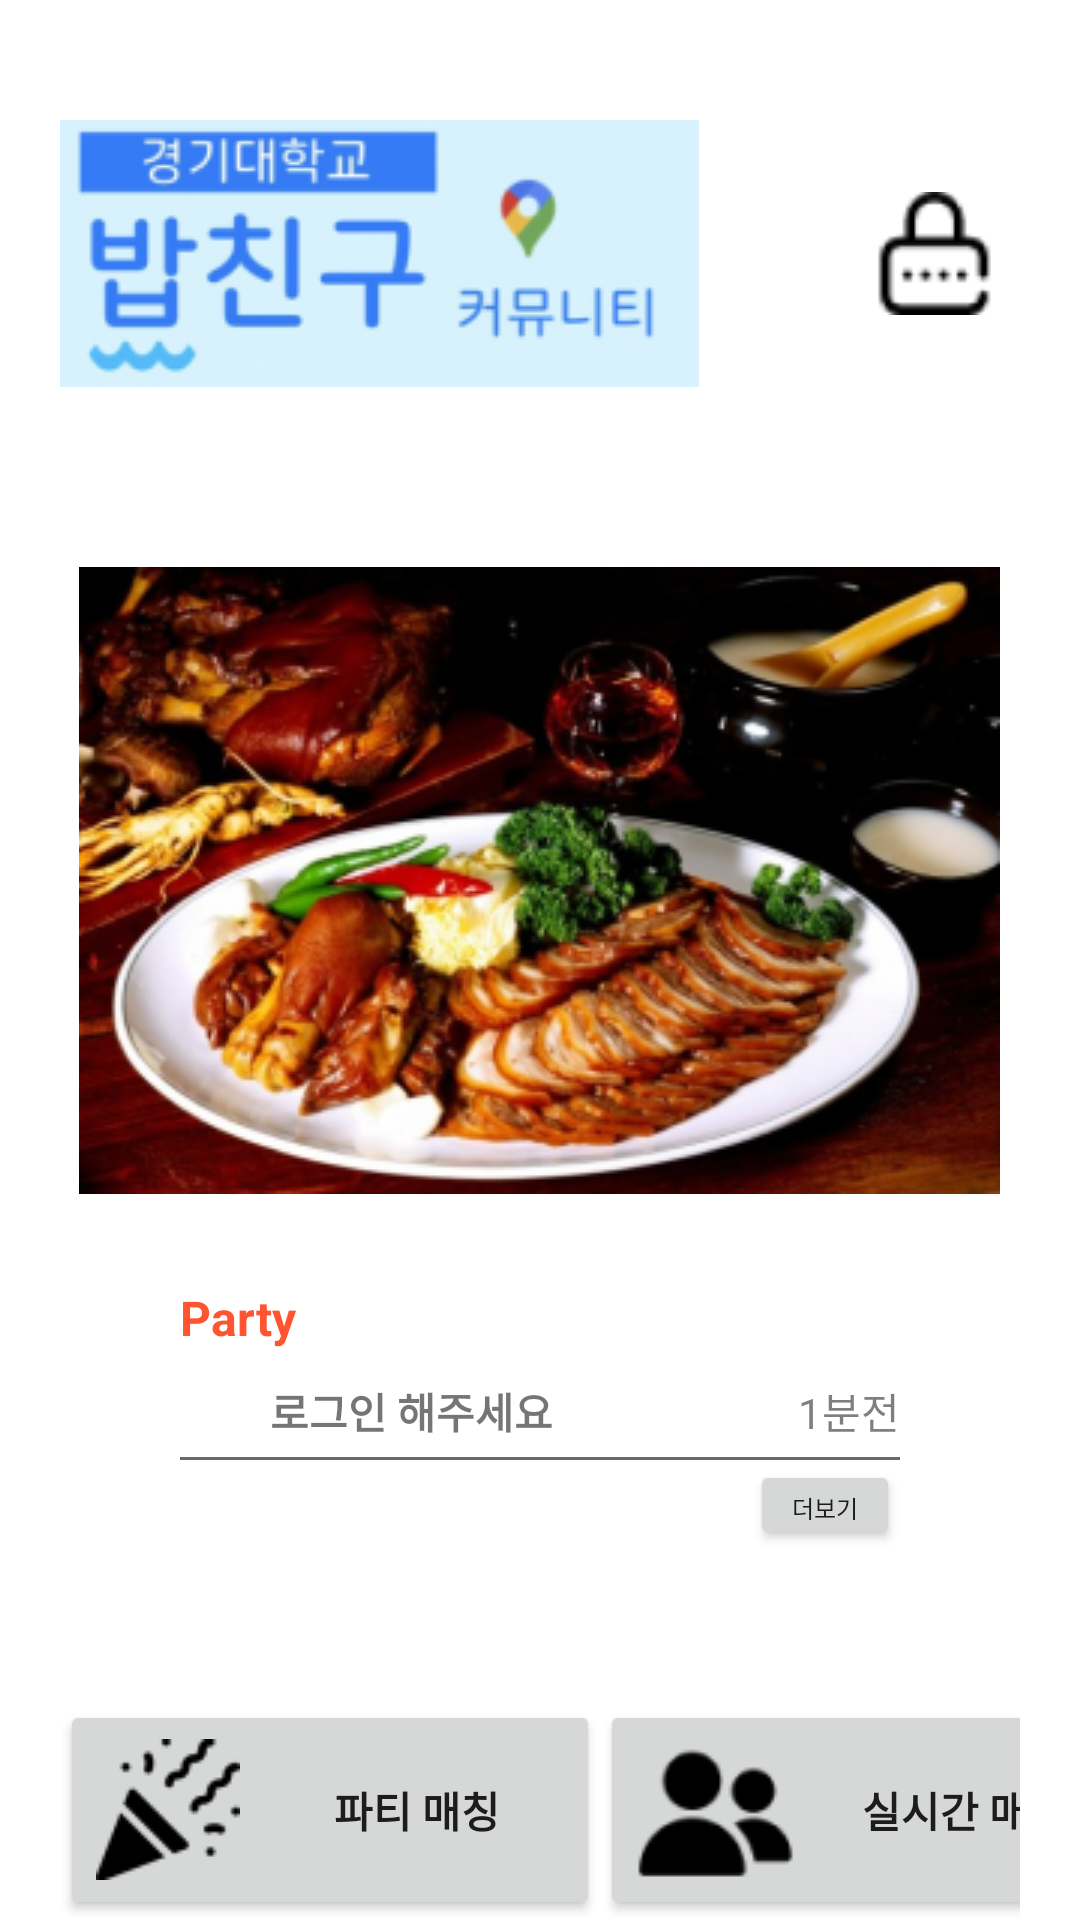

Where icons sit on this 1080 × 1920 app screen, as (x1, y1, x2, y2):
login: (878, 192, 991, 315)
